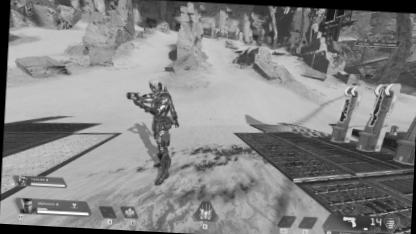Target: (125, 77, 177, 184)
